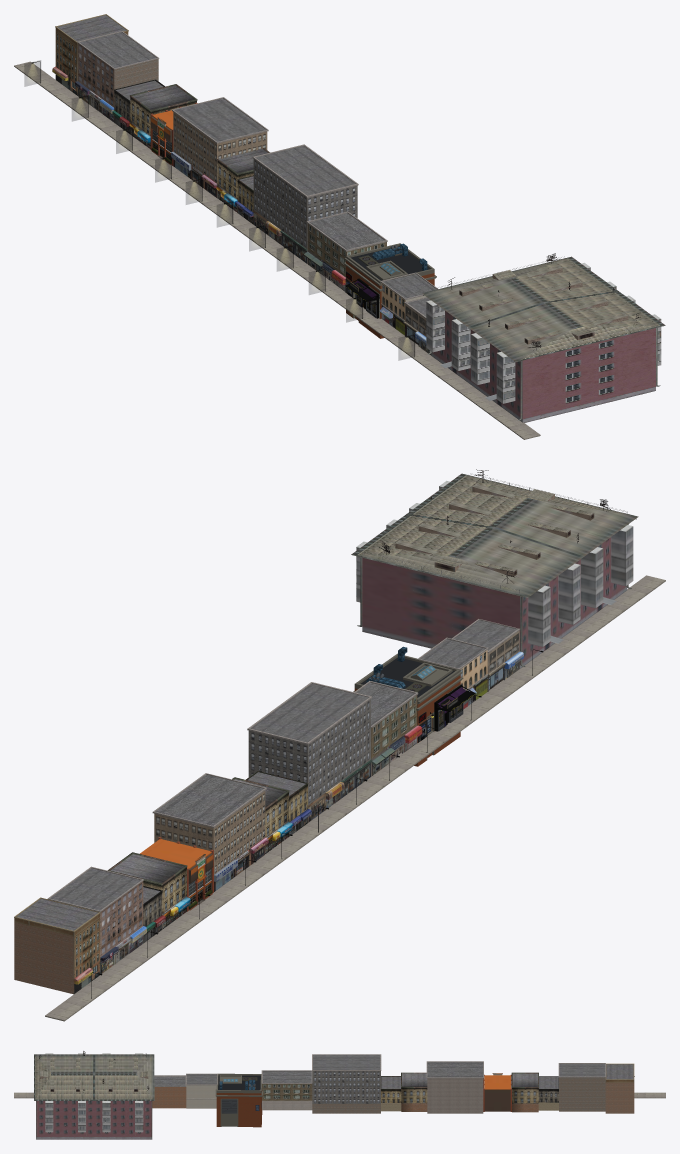
The model's file is CASAS2.glb.
3 views of the same model, one above another, from view 1: azimuth 30°, elevation 25°; view 2: azimuth 150°, elevation 25°; view 3: azimuth 270°, elevation 25° (orthographic). The views are drawn at different scales.
Visible parts, largest first — view 1: Regroup13, Regroup14, Building_01 (2), Building (2), Building_03 (2), Building_07 (2), building_08 (2), building_15 (3), Building_08 (2), building_15 (4), ComIB01F00top, polleria (2) (+13 smaller); view 2: Regroup14, Building_01 (2), Regroup13, Building (2), building_08 (2), Building_03 (2), Building_07 (2), building_15 (3), Building_09 (2), Building_08 (2), polleria (2), ComIB01F00top (+14 smaller); view 3: Regroup13, Building_01 (2), Building (2), Regroup14, Building_03 (2), Building_07 (2), building_08 (2), ComIB01F00SA, Building_09 (2), building_15 (3), Building_08 (2), polleria (2) (+6 smaller).
Part boxes in pixels (x1,y1,x2,y2): Regroup13: (423, 256, 665, 422); Regroup14: (422, 264, 660, 422); Building_01 (2): (252, 144, 358, 263); Building (2): (171, 97, 268, 197); Building_03 (2): (75, 31, 159, 122); Building_07 (2): (303, 211, 387, 291); building_08 (2): (52, 14, 128, 95); building_15 (3): (129, 84, 197, 148); Building_08 (2): (379, 272, 438, 335); building_15 (4): (216, 148, 269, 212); ComIB01F00top: (344, 243, 434, 288); polleria (2): (150, 102, 197, 165); Regroup14: (353, 481, 638, 668); Building_01 (2): (247, 682, 372, 822); Regroup13: (351, 473, 636, 666); Building (2): (152, 773, 268, 891); building_08 (2): (14, 897, 100, 994); Building_03 (2): (47, 866, 146, 973); Building_07 (2): (354, 681, 422, 776); building_15 (3): (107, 852, 190, 929); Building_09 (2): (452, 619, 523, 691); Building_08 (2): (417, 637, 488, 709); polleria (2): (140, 837, 213, 911); ComIB01F00top: (354, 653, 462, 707); Regroup13: (34, 1053, 154, 1139); Building_01 (2): (312, 1054, 381, 1113); Building (2): (426, 1061, 483, 1113); Regroup14: (34, 1053, 154, 1102); Building_03 (2): (558, 1063, 605, 1111); Building_07 (2): (261, 1070, 312, 1110); building_08 (2): (605, 1063, 634, 1113); ComIB01F00SA: (215, 1089, 262, 1127); Building_09 (2): (152, 1075, 186, 1108); building_15 (3): (511, 1072, 538, 1112); Building_08 (2): (186, 1073, 217, 1108); polleria (2): (483, 1073, 511, 1111).
Size of the model in its own units: 63.7 by 34.09 by 319.
60 materials, 60 textured.
